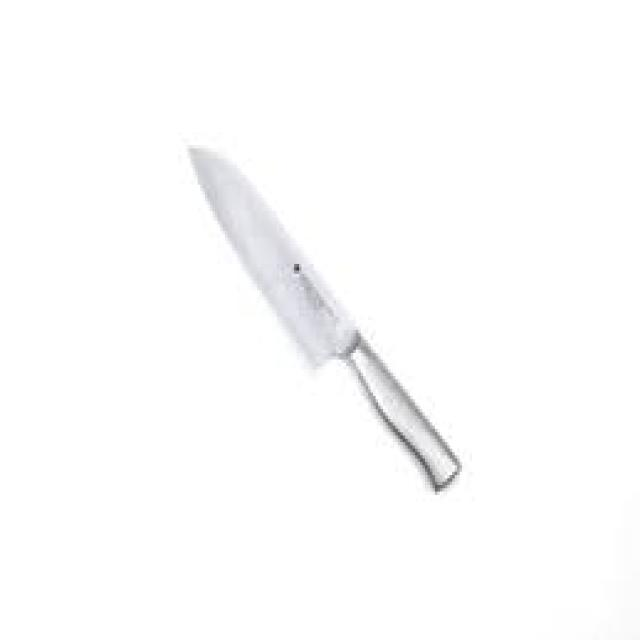Knife: (185, 138, 462, 492)
